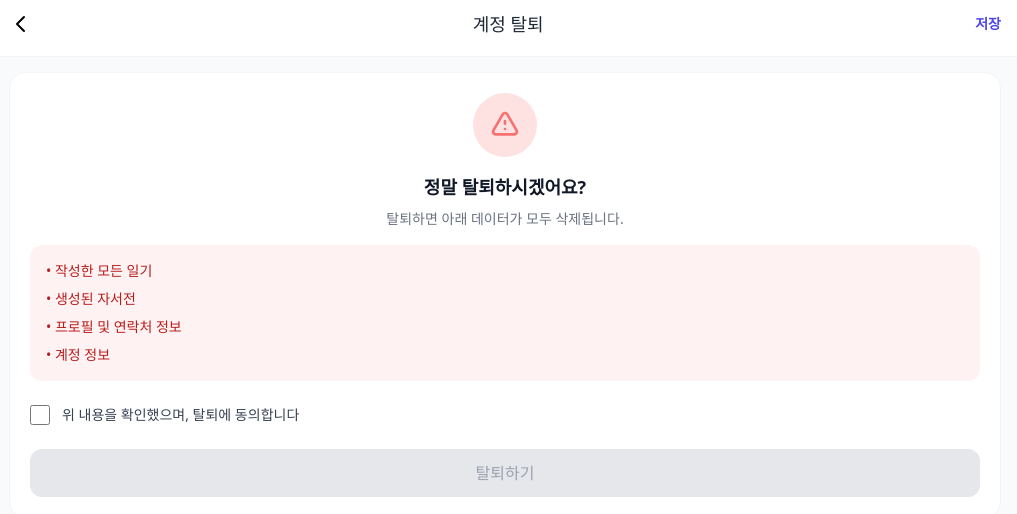
Test: Withdraw Flow - Integration Test › confirmed → processing state transition › should show processing state when withdraw button is clicked
What coordinates should you click on to do the following:
click the checkbox with test id "withdraw-consent-checkbox"
I would click on:
 (40, 415)
Its box is x1=30 y1=405 x2=50 y2=425.
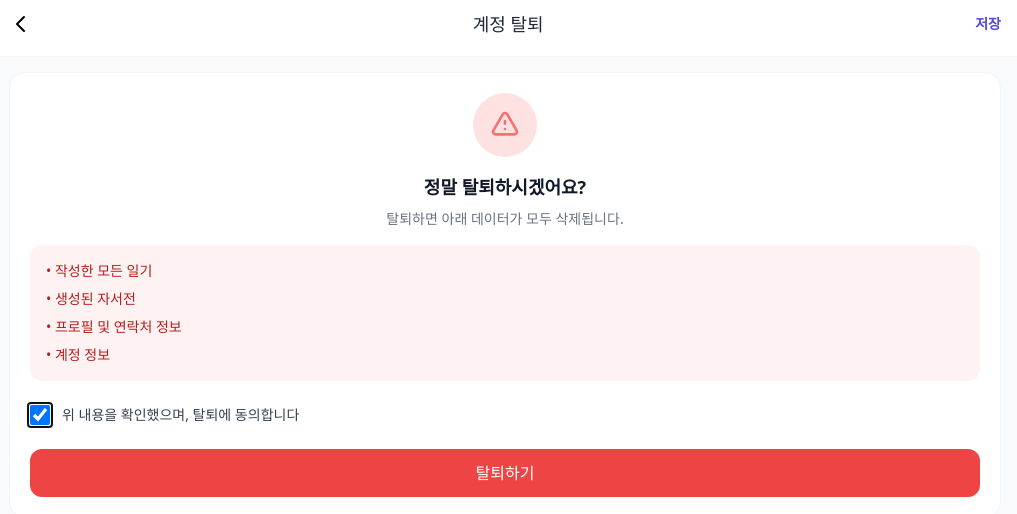
What coordinates should you click on to do the following:
click the button "탈퇴하기"
I would click on:
 (505, 473)
Its box is x1=30 y1=449 x2=980 y2=497.
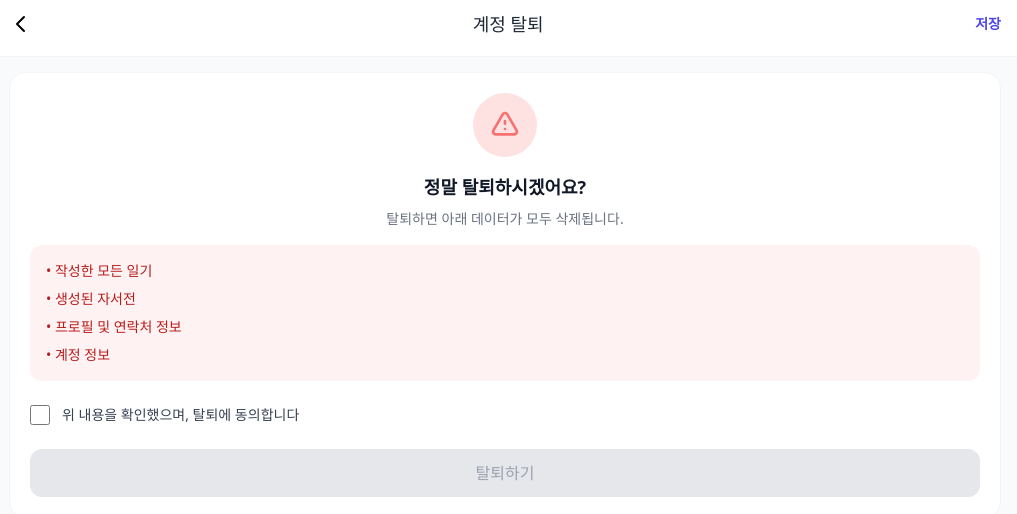
Result: the button "탈퇴하기" is disabled at x1=30 y1=449 x2=980 y2=497
